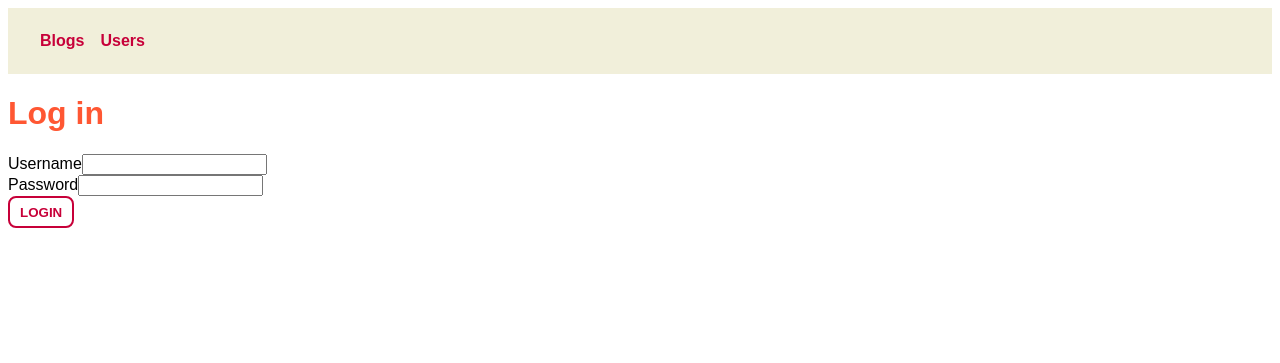
Test case: bloglist app › login › fails with incorrect credentials
Type "IncorrectUsername" into the field with id "username" at (175, 165), box left=82, top=154, right=267, bottom=175
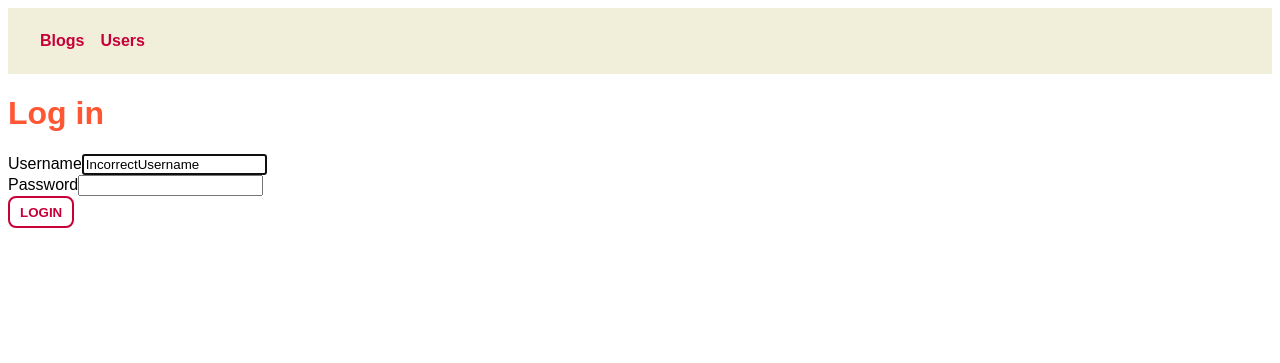
Type "cypress-test" into the password field labelled "Password" at (171, 186), box left=78, top=175, right=263, bottom=196
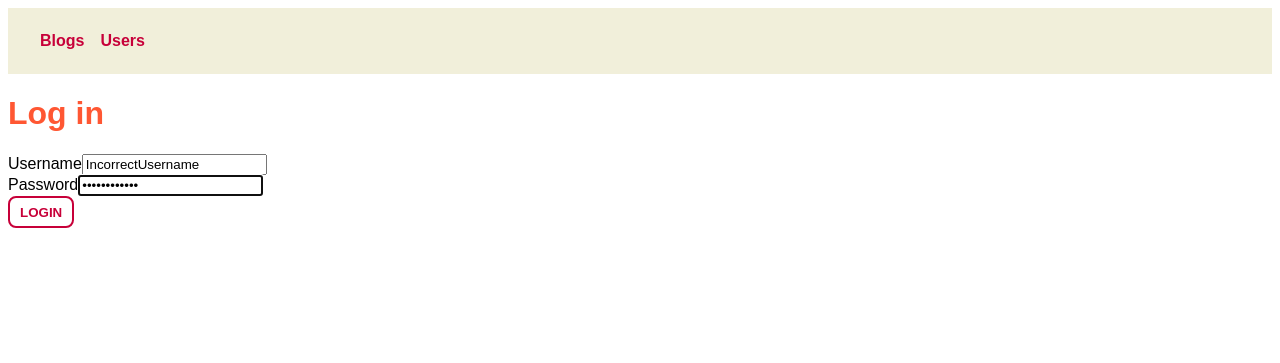
Click the button with id "login-button" at (41, 212), box left=8, top=196, right=74, bottom=228
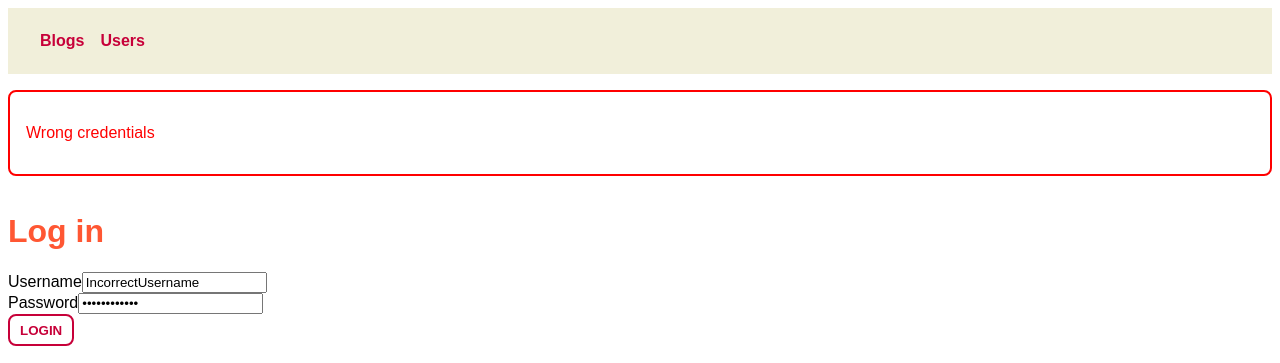
Result: the text "Wrong credentials" is shown at left=8, top=90, right=1272, bottom=176
